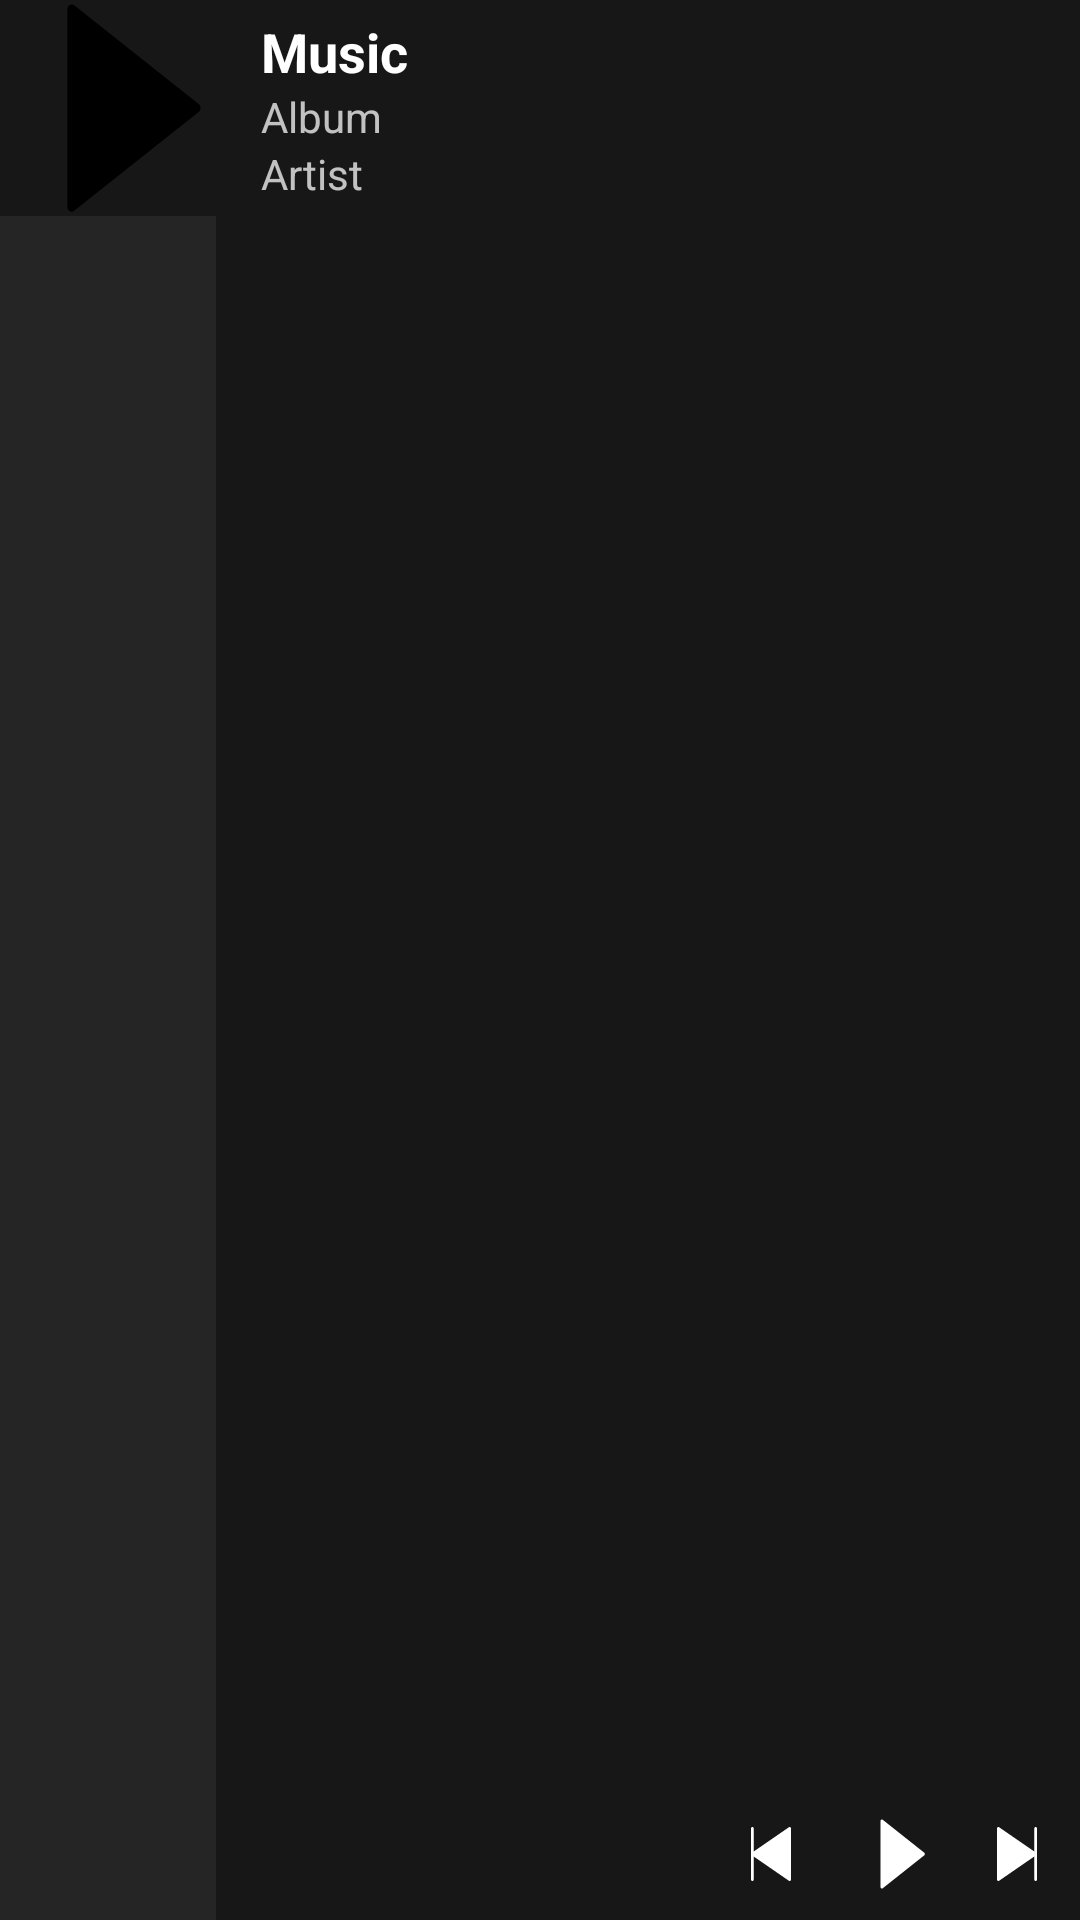

Where to tap for icons on this 1080px×1920px app screen, as (x=x, y=y):
play: (x=902, y=1854)
